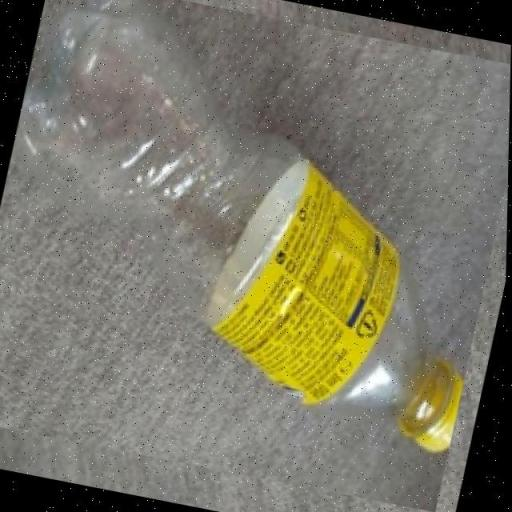plastic: (11, 0, 466, 456)
